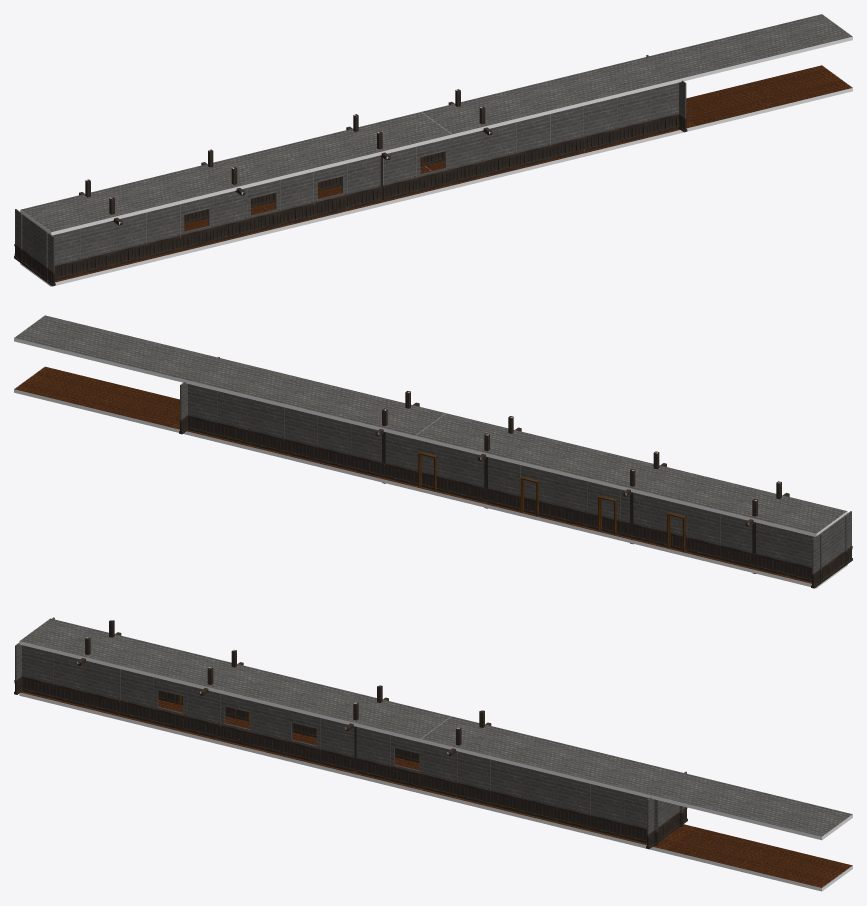
The model's file is Totorial2.fbx.
The picture shows the model from 3 angles, top to bottom: view 1: azimuth 30°, elevation 25°; view 2: azimuth 150°, elevation 25°; view 3: azimuth 330°, elevation 25°; orthographic projection.
Parts seen in each view (by area): view 1: Floor_Longfbx__3_, Floor_Longfbx__1_, Floor_Longfbx__2_, Floor_Longfbx, SM_Bld_House_Wall_02_34, SM_Bld_House_Wall_02_23, SM_Bld_House_Wall_02_26, SM_Bld_House_Wall_02_27, SM_Bld_House_Wall_02_28, SM_Bld_House_Wall_02_36, SM_Bld_House_Wall_02_29, SM_Bld_House_Wall_02_31 (+26 smaller); view 2: Floor_Longfbx__3_, Floor_Longfbx__1_, Floor_Longfbx__2_, Floor_Longfbx, SM_Bld_House_Wall_02_21, SM_Bld_House_Wall_02_11, SM_Bld_House_Wall_02_18, SM_Bld_House_Wall_02_19, SM_Bld_House_Wall_02_20, SM_Bld_House_Wall_02_7, SM_Bld_House_Wall_02_16, SM_Bld_House_Wall_02_12 (+19 smaller); view 3: Floor_Longfbx__3_, Floor_Longfbx__1_, Floor_Longfbx__2_, Floor_Longfbx, SM_Bld_House_Wall_02_29, SM_Bld_House_Wall_02_32, SM_Bld_House_Wall_02_25, SM_Bld_House_Wall_02_26, SM_Bld_House_Wall_02_34, SM_Bld_House_Wall_02_31, SM_Bld_House_Wall_02_28, SM_Bld_House_Wall_02_35 (+17 smaller).
Boxes of the visible parts, bbox=[...] form: Floor_Longfbx__3_: bbox=[421, 14, 852, 137]; Floor_Longfbx__1_: bbox=[20, 112, 451, 235]; Floor_Longfbx__2_: bbox=[425, 65, 852, 188]; Floor_Longfbx: bbox=[20, 165, 451, 286]; SM_Bld_House_Wall_02_34: bbox=[146, 204, 180, 243]; SM_Bld_House_Wall_02_23: bbox=[347, 155, 380, 194]; SM_Bld_House_Wall_02_26: bbox=[516, 114, 549, 152]; SM_Bld_House_Wall_02_27: bbox=[550, 106, 583, 144]; SM_Bld_House_Wall_02_28: bbox=[583, 98, 616, 136]; SM_Bld_House_Wall_02_36: bbox=[80, 221, 113, 259]; SM_Bld_House_Wall_02_29: bbox=[617, 89, 650, 128]; SM_Bld_House_Wall_02_31: bbox=[280, 172, 313, 210]; Floor_Longfbx__3_: bbox=[14, 315, 445, 438]; Floor_Longfbx__1_: bbox=[415, 413, 847, 536]; Floor_Longfbx__2_: bbox=[14, 366, 416, 490]; Floor_Longfbx: bbox=[415, 486, 847, 588]; SM_Bld_House_Wall_02_21: bbox=[217, 391, 250, 430]; SM_Bld_House_Wall_02_11: bbox=[553, 473, 586, 512]; SM_Bld_House_Wall_02_18: bbox=[317, 415, 350, 454]; SM_Bld_House_Wall_02_19: bbox=[284, 407, 317, 446]; SM_Bld_House_Wall_02_20: bbox=[250, 399, 283, 438]; SM_Bld_House_Wall_02_7: bbox=[687, 506, 720, 544]; SM_Bld_House_Wall_02_16: bbox=[385, 432, 417, 471]; SM_Bld_House_Wall_02_12: bbox=[451, 448, 484, 487]; Floor_Longfbx__3_: bbox=[420, 716, 852, 840]; Floor_Longfbx__1_: bbox=[19, 618, 450, 742]; Floor_Longfbx__2_: bbox=[420, 789, 852, 891]; Floor_Longfbx: bbox=[19, 691, 422, 793]; SM_Bld_House_Wall_02_29: bbox=[590, 784, 624, 822]; SM_Bld_House_Wall_02_32: bbox=[356, 727, 390, 765]; SM_Bld_House_Wall_02_25: bbox=[457, 751, 490, 790]; SM_Bld_House_Wall_02_26: bbox=[490, 759, 523, 798]; SM_Bld_House_Wall_02_34: bbox=[120, 669, 153, 708]; SM_Bld_House_Wall_02_31: bbox=[254, 702, 287, 740]; SM_Bld_House_Wall_02_28: bbox=[557, 776, 590, 814]; SM_Bld_House_Wall_02_35: bbox=[86, 661, 119, 699].
Bounding box in the file's own units: 6016 × 523 × 523.
Materials: 8 (8 with a texture image).
